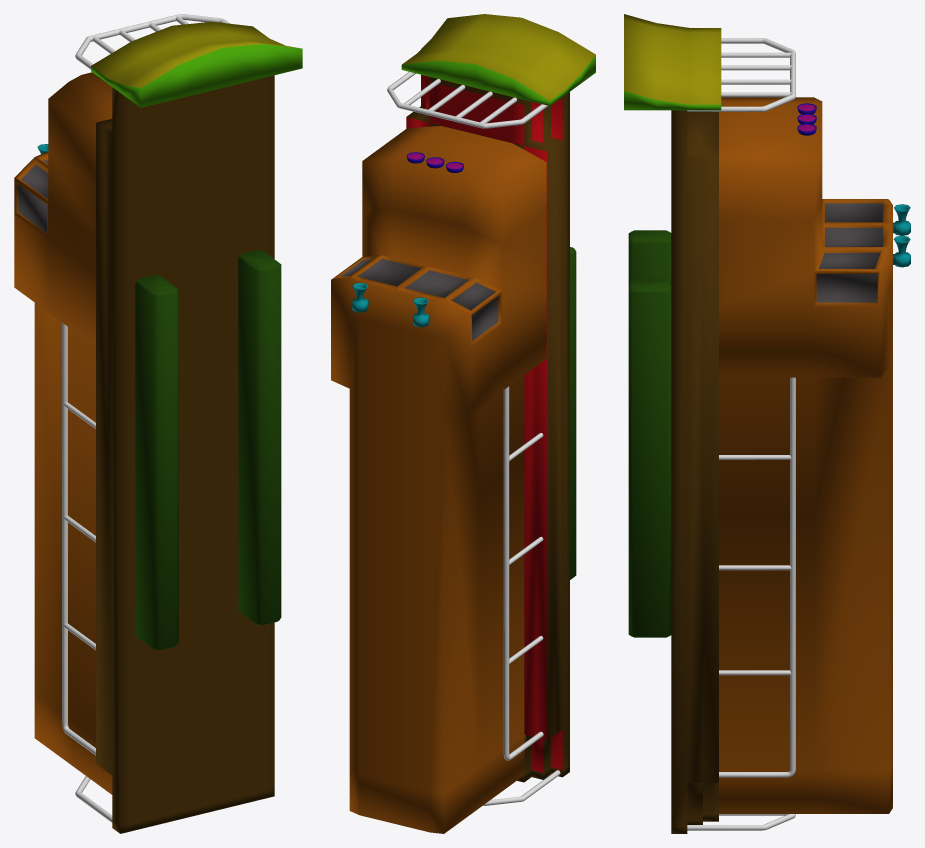
Rendered from Locomotive.fbx.
3 renders of one model, left to right at view 1: azimuth 30°, elevation 25°; view 2: azimuth 150°, elevation 25°; view 3: azimuth 270°, elevation 25°, orthographic. The views are drawn at different scales.
Visible parts, largest first — view 1: LP_Train_13_4; view 2: LP_Train_13_4; view 3: LP_Train_13_4.
Part boxes in pixels (left/top/right/bottom): LP_Train_13_4: left=14, top=14, right=302, bottom=833; LP_Train_13_4: left=331, top=14, right=595, bottom=833; LP_Train_13_4: left=624, top=14, right=910, bottom=833.
Size of the model in its own units: 3.04 by 14.1 by 4.79.
